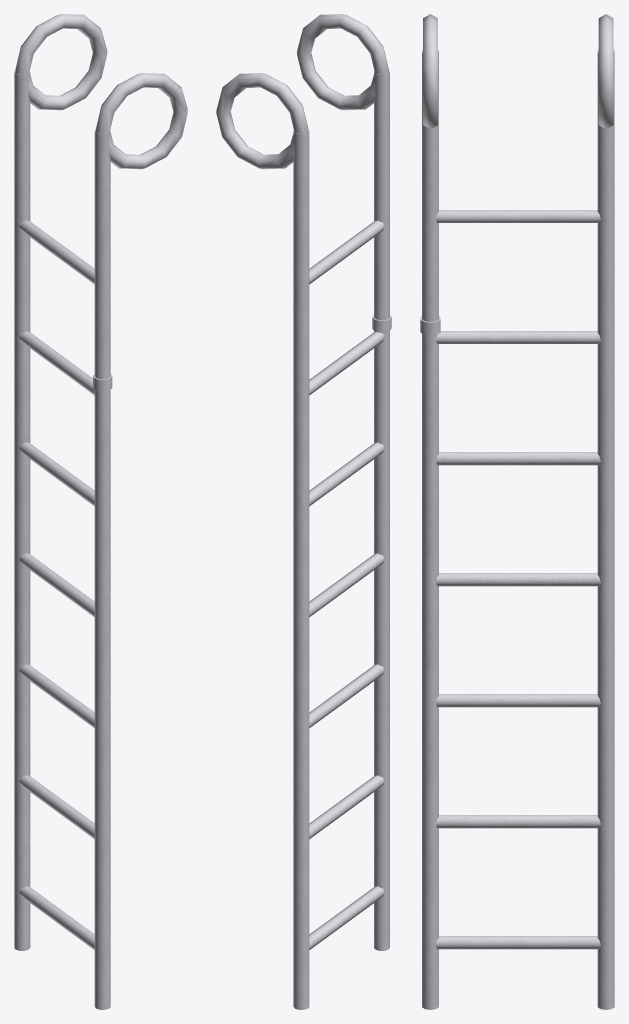
Rendered from pool_ladder.glb.
3 views of the same model, side by side, from view 1: azimuth 30°, elevation 25°; view 2: azimuth 150°, elevation 25°; view 3: azimuth 270°, elevation 25° (orthographic). The views are drawn at different scales.
Visible parts, largest first — view 1: pool_ladder_body; view 2: pool_ladder_body; view 3: pool_ladder_body.
Boxes of the visible parts, x1,y1,x2,y2 form: pool_ladder_body: (14, 14, 187, 1009); pool_ladder_body: (216, 14, 391, 1009); pool_ladder_body: (420, 14, 614, 1009).
Size of the model in its own units: 0.335 by 3.16 by 0.5523.
Materials: 1 (1 with a texture image).
